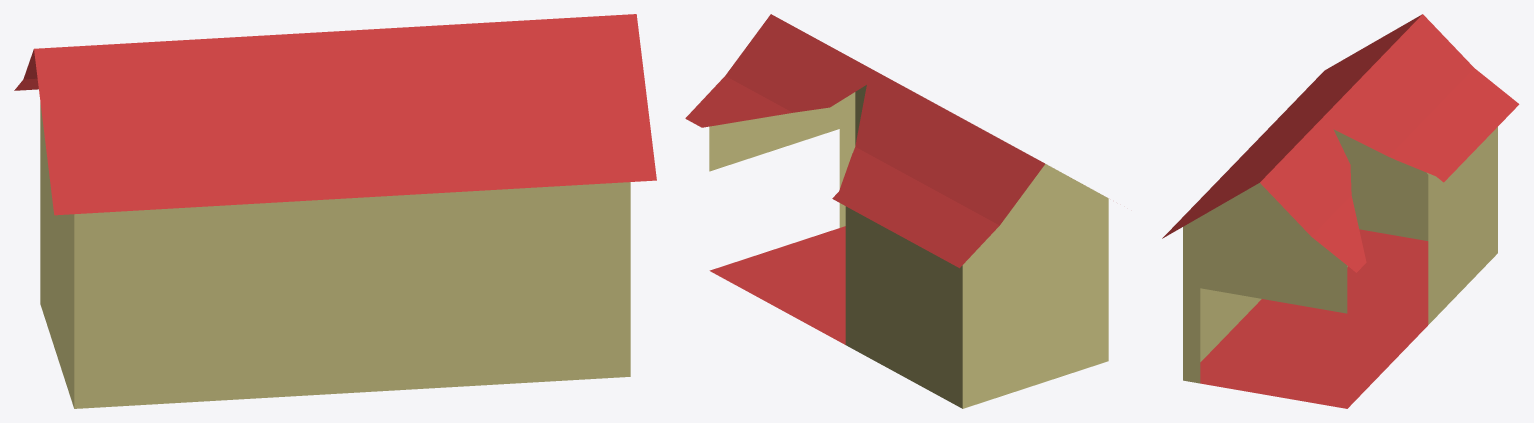
The picture shows the model from 3 angles, left to right: view 1: azimuth 30°, elevation 25°; view 2: azimuth 150°, elevation 25°; view 3: azimuth 270°, elevation 25°; orthographic projection. The views are drawn at different scales.
Size of the model in its own units: 28.9 by 21.62 by 14.56.
